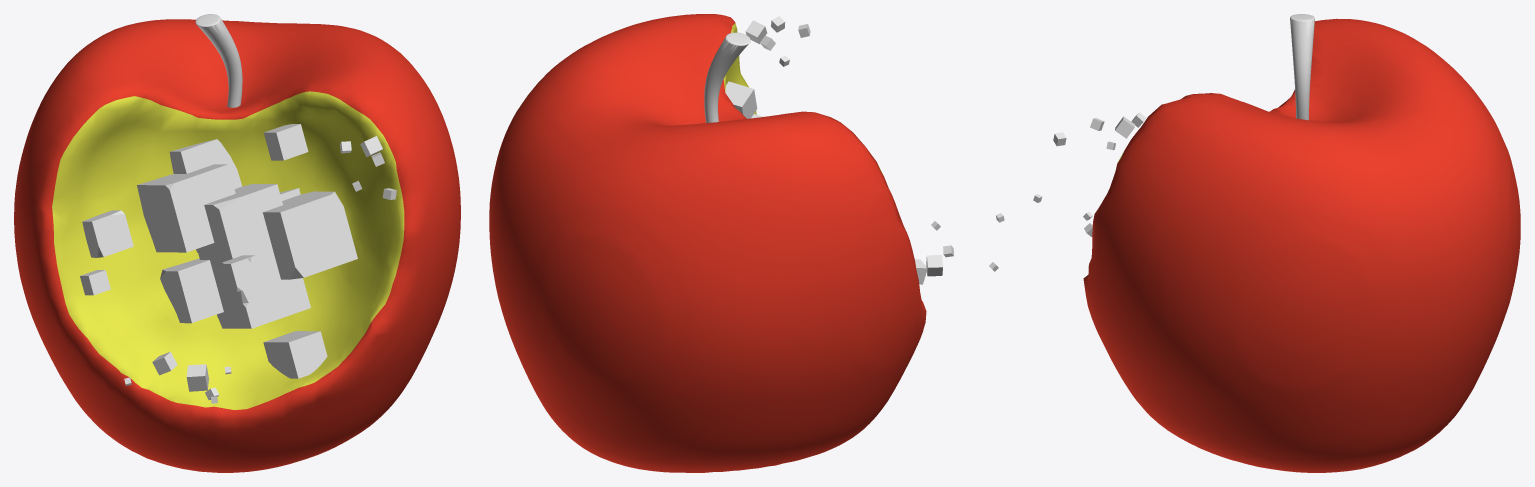
File: apple.fbx
3 renders of one model, left to right at view 1: azimuth 30°, elevation 25°; view 2: azimuth 150°, elevation 25°; view 3: azimuth 270°, elevation 25°, orthographic. The views are drawn at different scales.
Visible parts, largest first — view 1: apple crater.001, 立方体.002, 立方体.009, 立方体.001, 立方体.007, 立方体.013, 立方体.010, geng, 立方体.003, 立方体.012, 立方体.011, 立方体.014 (+1 smaller); view 2: apple crater.001, geng, 立方体.012; view 3: apple crater.001, geng.
Part boxes in pixels (box(x1,y1,x2,y2)): apple crater.001: box(14, 19, 460, 472); 立方体.002: box(197, 184, 310, 328); 立方体.009: box(263, 191, 357, 279); 立方体.001: box(137, 164, 235, 252); 立方体.007: box(160, 258, 223, 323); 立方体.013: box(263, 331, 327, 378); 立方体.010: box(82, 210, 133, 257); geng: box(195, 14, 242, 107); 立方体.003: box(169, 139, 242, 252); 立方体.012: box(264, 124, 308, 160); 立方体.011: box(219, 255, 262, 291); 立方体.014: box(80, 270, 110, 295); apple crater.001: box(489, 14, 926, 472); geng: box(704, 32, 750, 122); 立方体.012: box(725, 81, 757, 118); apple crater.001: box(1083, 18, 1520, 472); geng: box(1290, 14, 1314, 120).
Bounding box in the file's own units: 1834 × 1820 × 1999.
